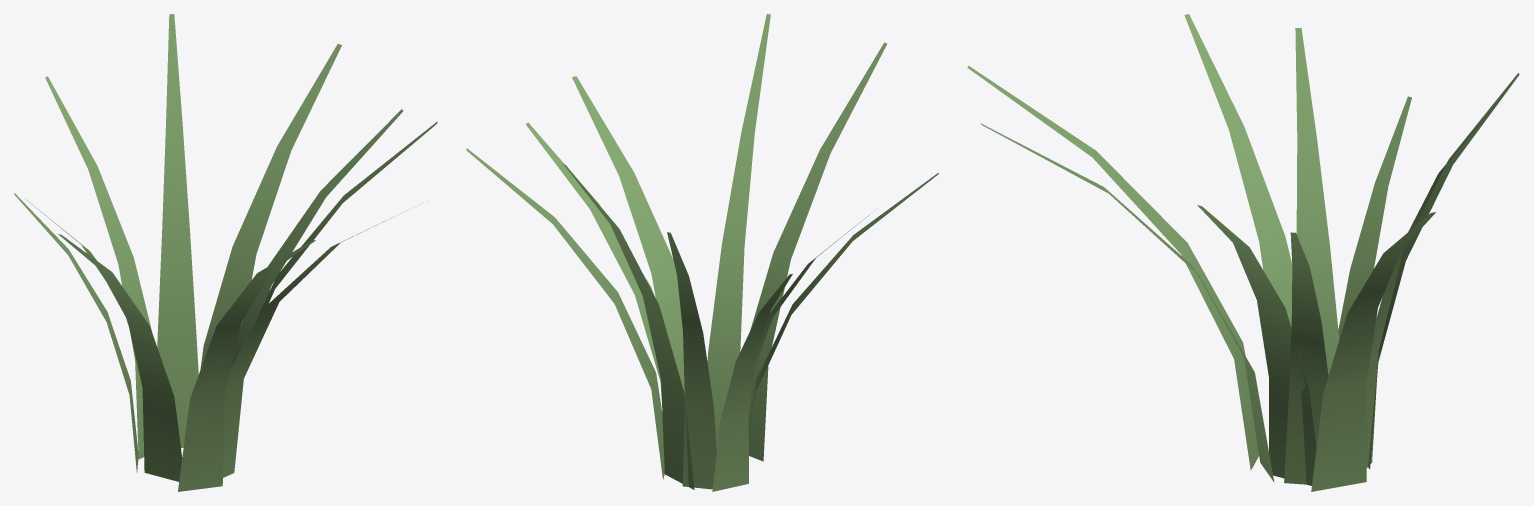
Rendered from grass_tuft_2.glb.
3 views of the same model, side by side, from view 1: azimuth 30°, elevation 25°; view 2: azimuth 150°, elevation 25°; view 3: azimuth 270°, elevation 25° (orthographic). The views are drawn at different scales.
Visible parts, largest first — view 1: grass_tuft_2; view 2: grass_tuft_2; view 3: grass_tuft_2.
Boxes of the visible parts, <box> form: grass_tuft_2: <box>14,14,437,491</box>; grass_tuft_2: <box>466,14,938,491</box>; grass_tuft_2: <box>967,14,1519,491</box>.
Size of the model in its own units: 0.6088 by 0.5495 by 0.6696.
